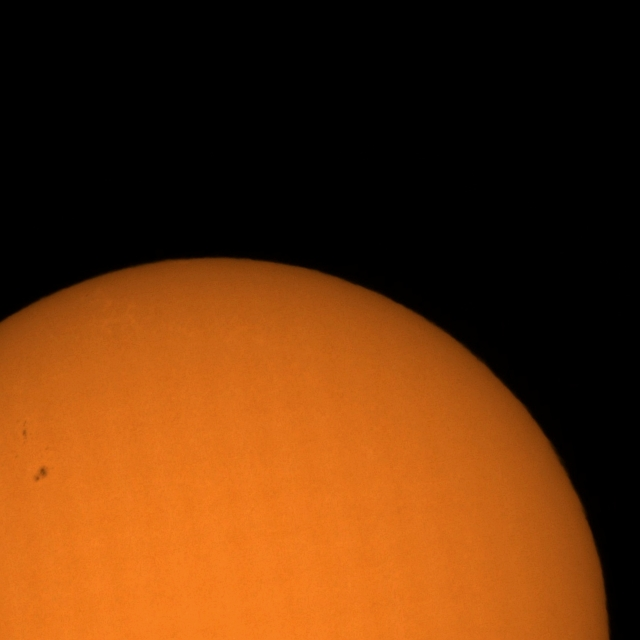sunspot: (32, 464, 51, 484), (20, 424, 29, 444)
